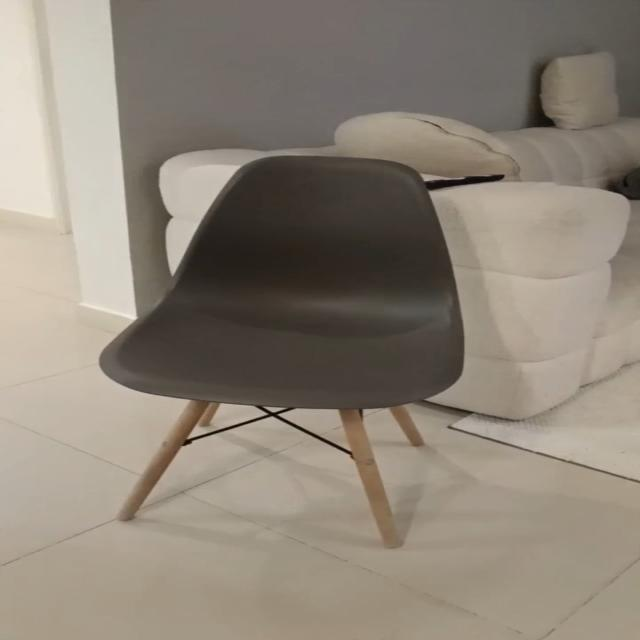sandalye: (100, 156, 501, 548)
